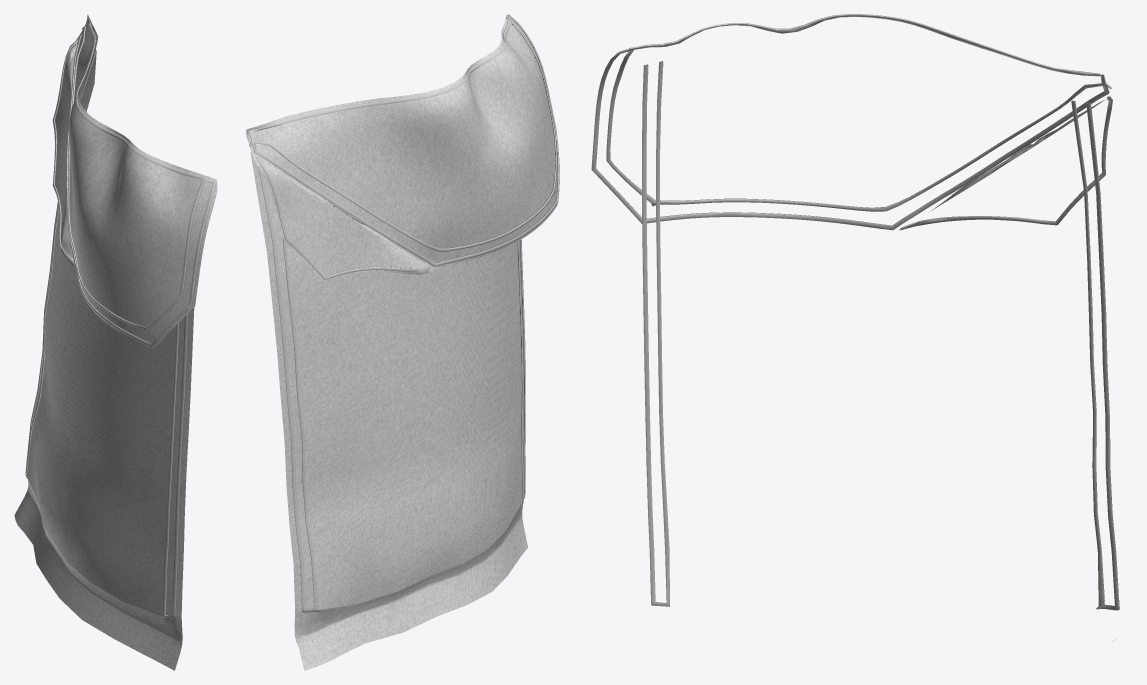
Rendered from Pocket_Left_V2.glb.
3 renders of one model, left to right at view 1: azimuth 30°, elevation 25°; view 2: azimuth 150°, elevation 25°; view 3: azimuth 270°, elevation 25°, orthographic. The views are drawn at different scales.
Visible parts, largest first — view 1: Pocket_Left_V21, Rope1; view 2: Pocket_Left_V21, Rope1; view 3: Rope1.
Part boxes in pixels (x1,y1,x2,y2): Pocket_Left_V21: (14, 14, 217, 670); Rope1: (25, 18, 216, 618); Pocket_Left_V21: (246, 14, 557, 670); Rope1: (249, 14, 559, 612); Rope1: (591, 14, 1119, 610).
Size of the model in its own units: 0.0777 by 0.2963 by 0.2228.
2 materials, 2 textured.
